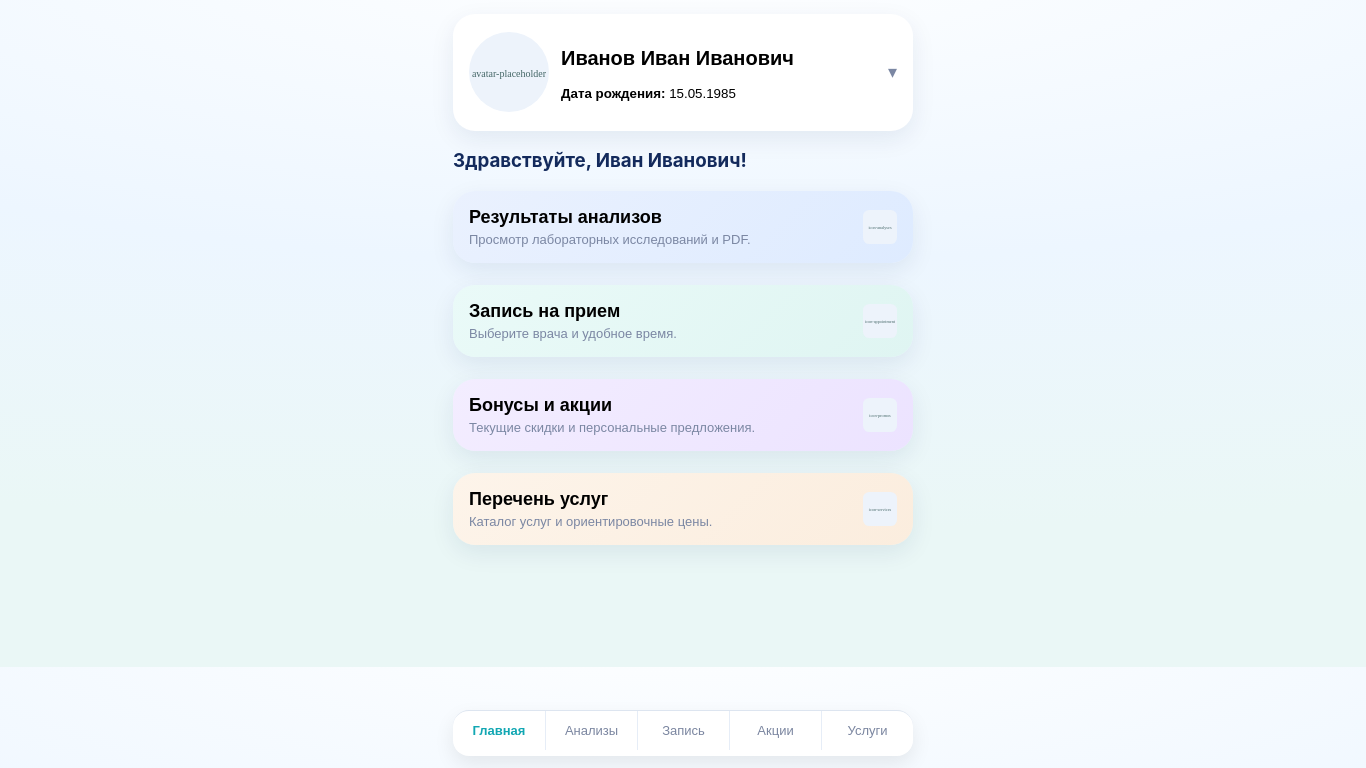
Test: mini app redesign › открывает details с форматированием и back navigation
Click the button "Анализы" at (591, 730), box x1=545 y1=711 x2=637 y2=750
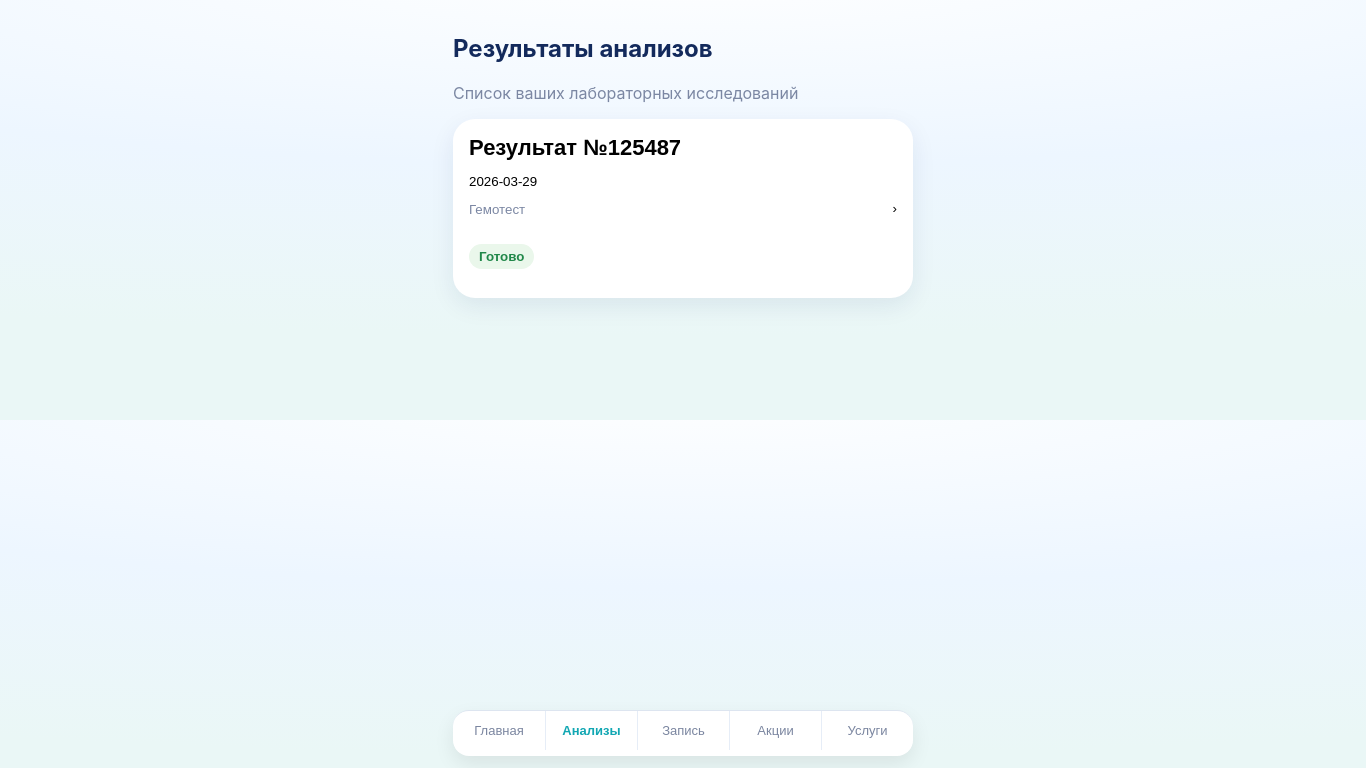
Click the text "Результат №125487" at (575, 148), box x1=469 y1=135 x2=681 y2=161
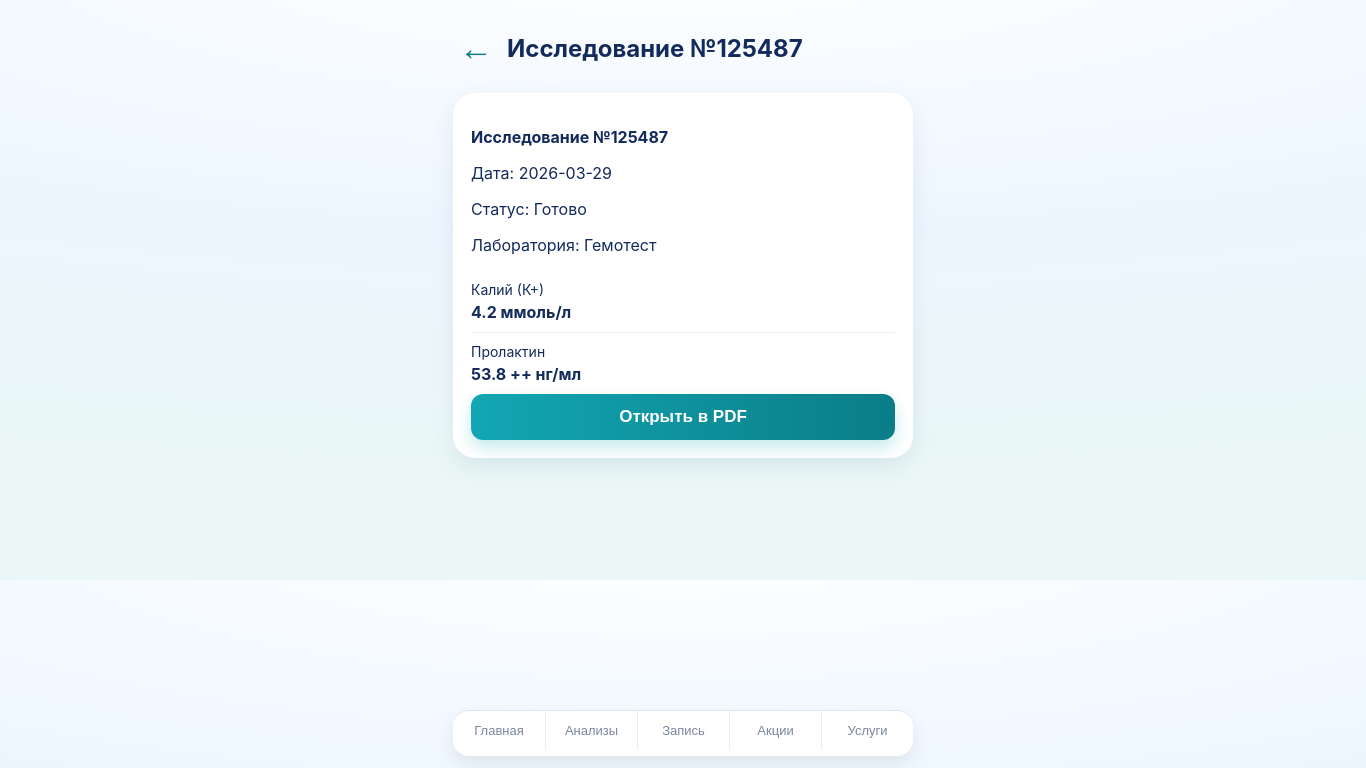
Now the text "Калий (К+)" is shown, box x1=471 y1=281 x2=544 y2=298
Now the text "4.2 ммоль/л" is shown, box x1=471 y1=302 x2=571 y2=322
Now the text "Пролактин" is shown, box x1=471 y1=343 x2=545 y2=360
Click the button named "Назад" at (476, 48), box x1=453 y1=28 x2=499 y2=69
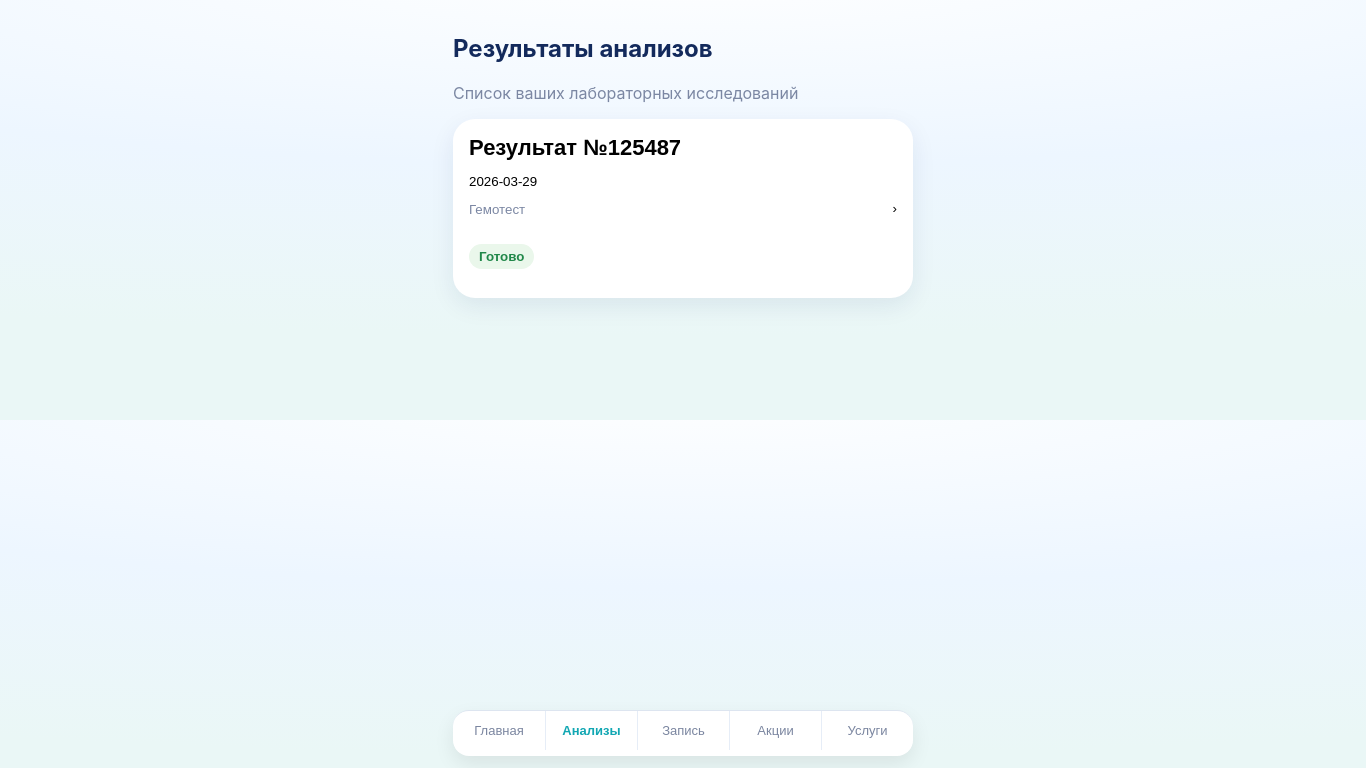
Now the text "Результат №125487" is shown, box x1=469 y1=135 x2=681 y2=161
